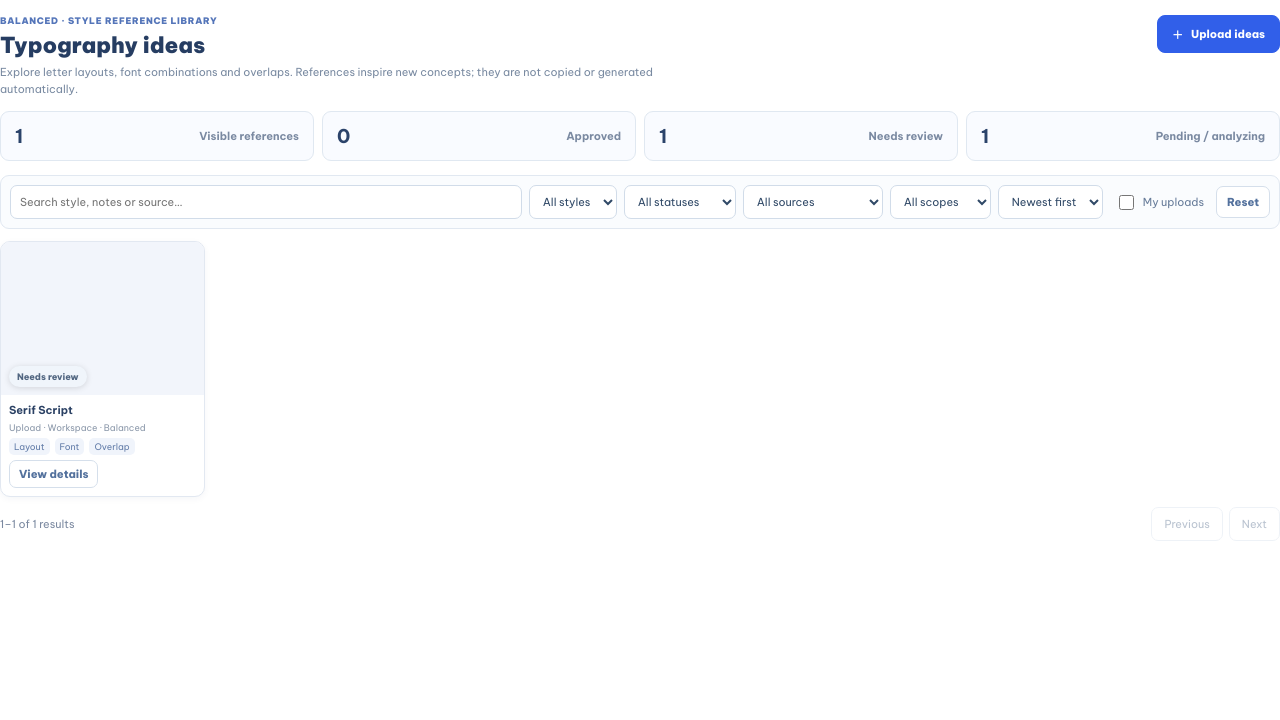
Scenario: Typography Ideas Stage 1 navigation and gated library › does not archive until the user confirms and the API acknowledges
Click the button with class "typography-reference-image": click(102, 319) [1,242,204,395]
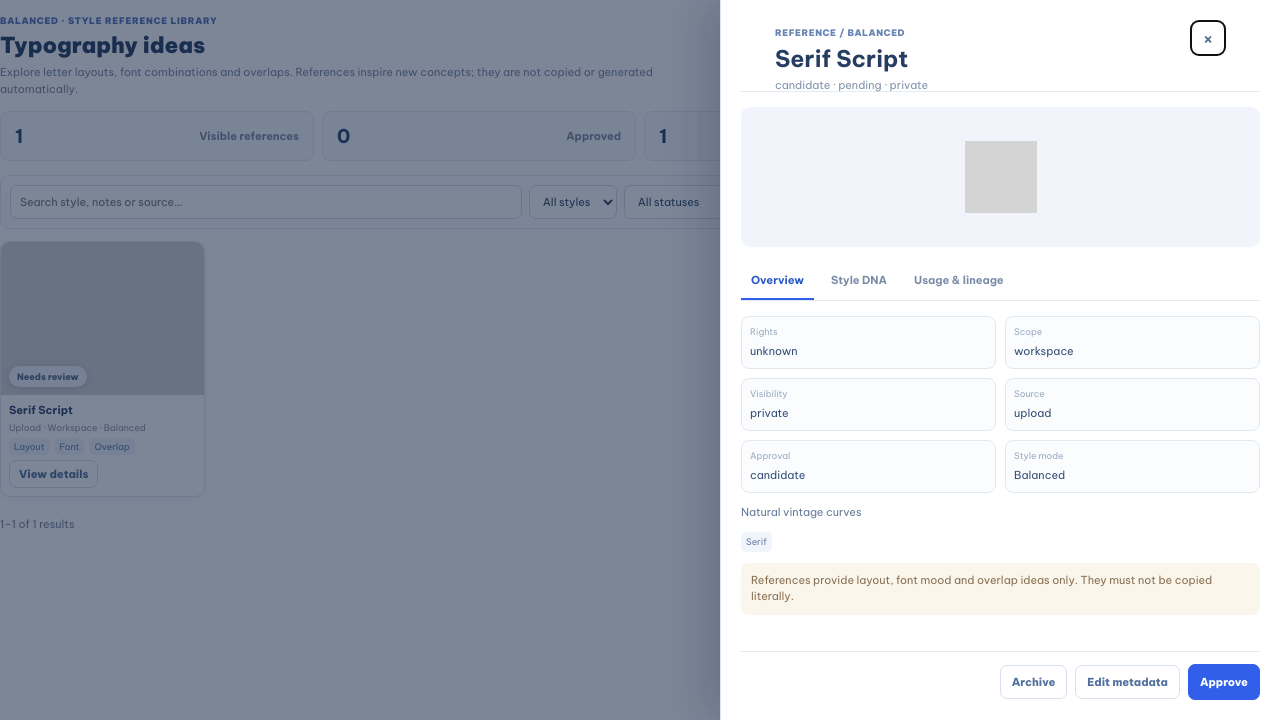
Result: the button "Archive" is shown
Click the button "Archive": click(1034, 682) [1000,665,1067,699]
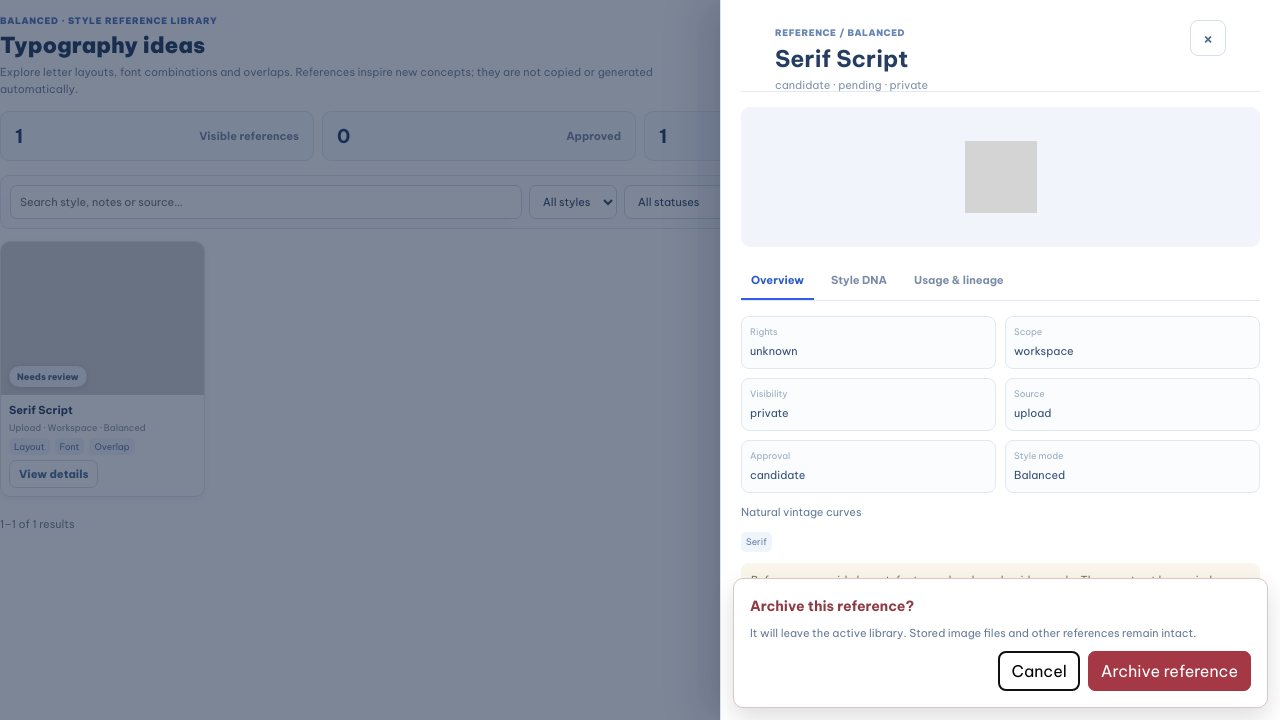
Result: the dialog with class "typography-archive-confirm" shows "Stored image files" at [750,626,1196,640]
Result: the button "Cancel" is shown
Click the button "Cancel": click(1039, 671) [998,651,1080,691]
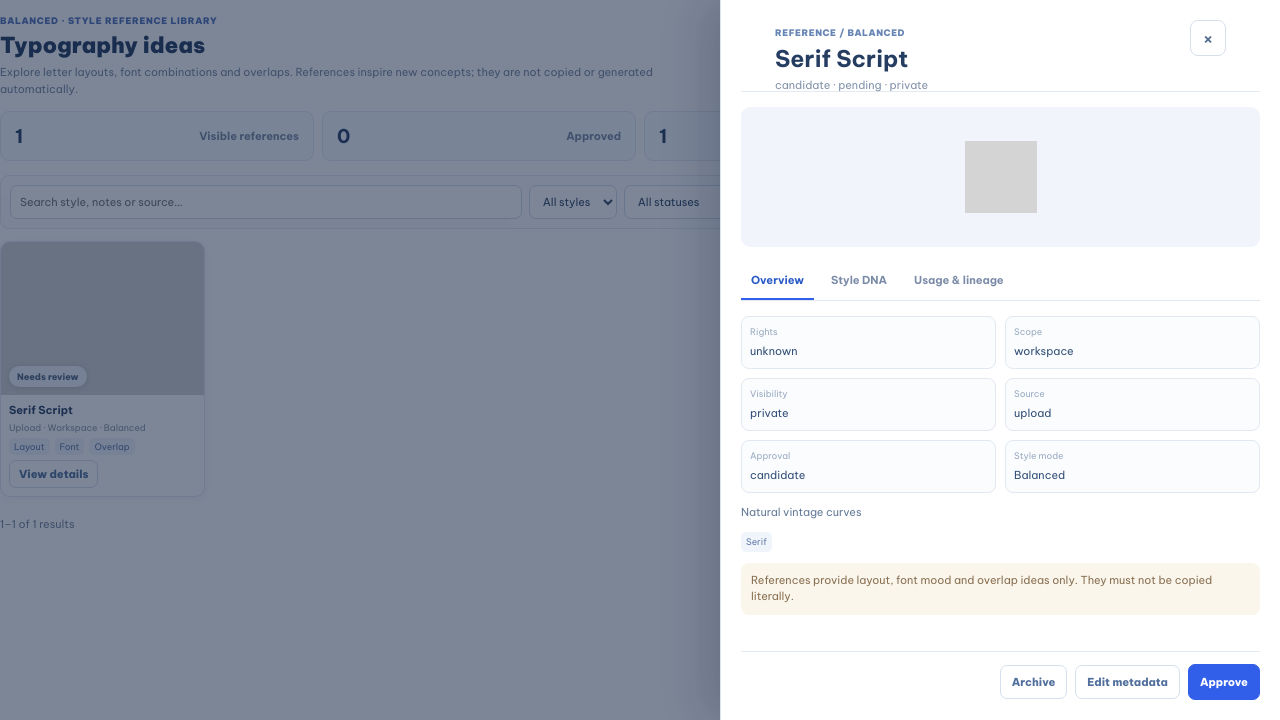
Result: the button "Archive" is shown
Click the button "Archive": click(1034, 682) [1000,665,1067,699]
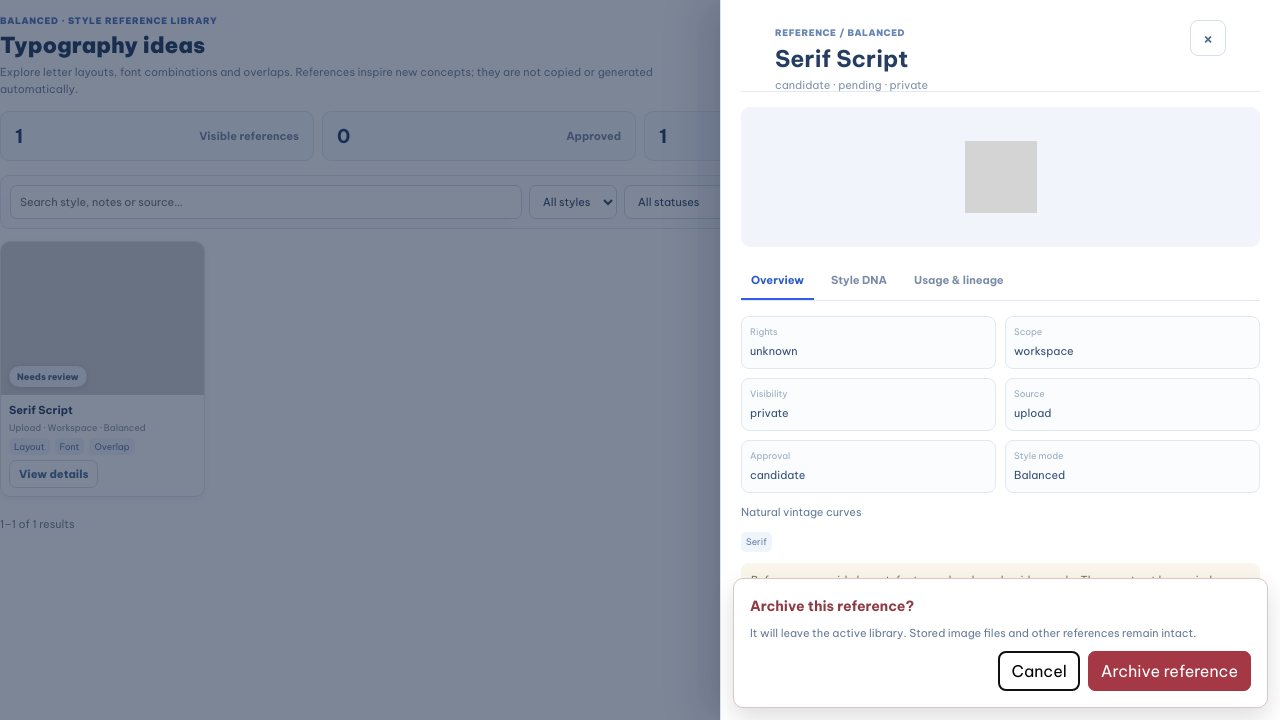
Result: the button "Archive reference" is shown
Click the button "Archive reference": click(1169, 671) [1088,651,1251,691]
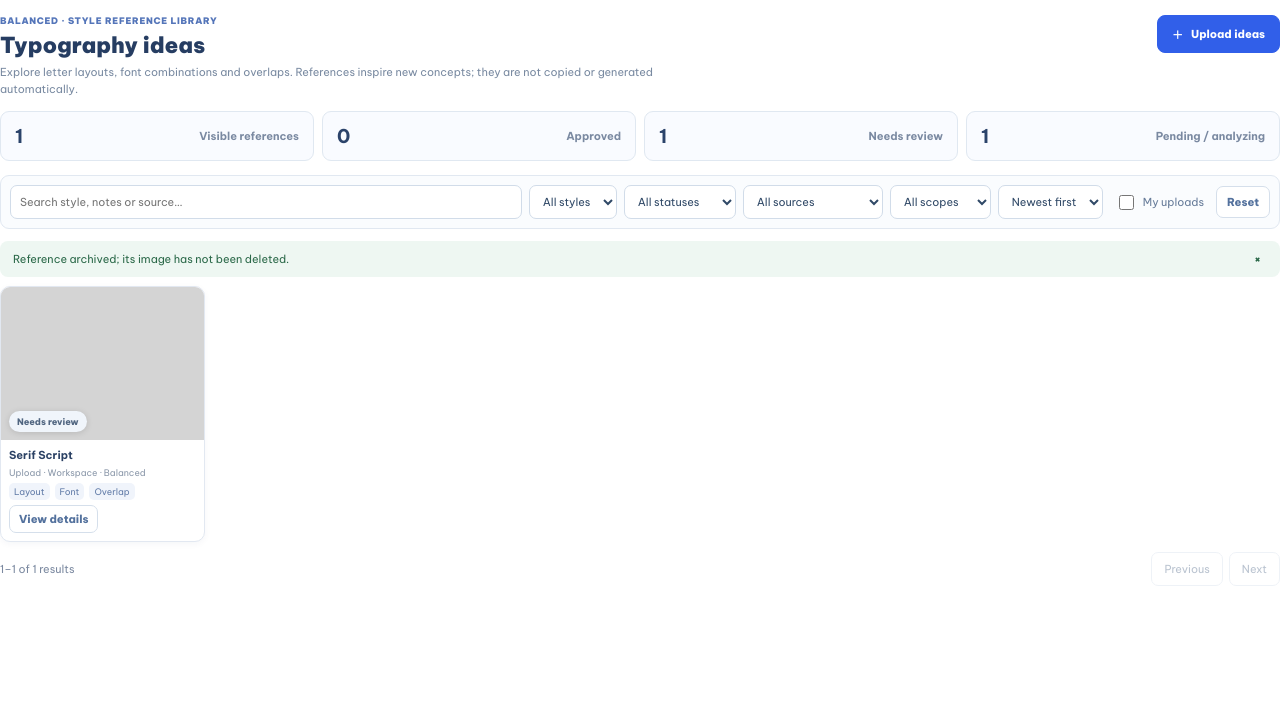
Result: the dialog with test id "typography-detail-drawer" is gone
